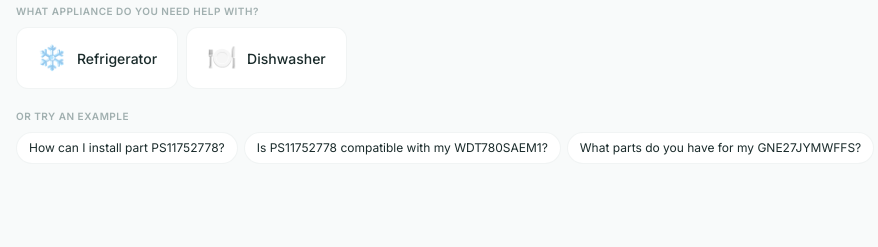
it: shows options after selecting Refrigerator
The width and height of the screenshot is (878, 247).
Click the text "Refrigerator": point(117, 58) x1=77 y1=48 x2=157 y2=68
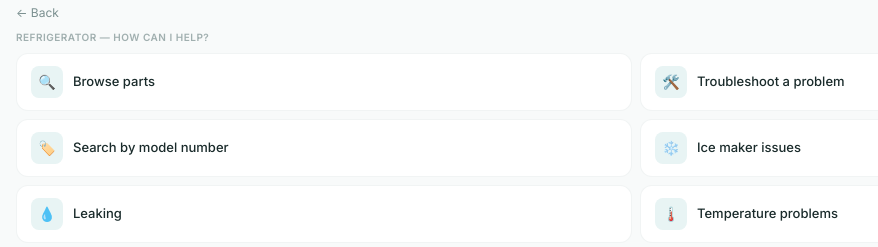
Result: the text "Browse parts" is shown at x1=73 y1=72 x2=155 y2=92
Result: the text "Ice maker issues" is shown at x1=697 y1=138 x2=801 y2=158
Result: the text "Leaking" is shown at x1=73 y1=204 x2=122 y2=224
